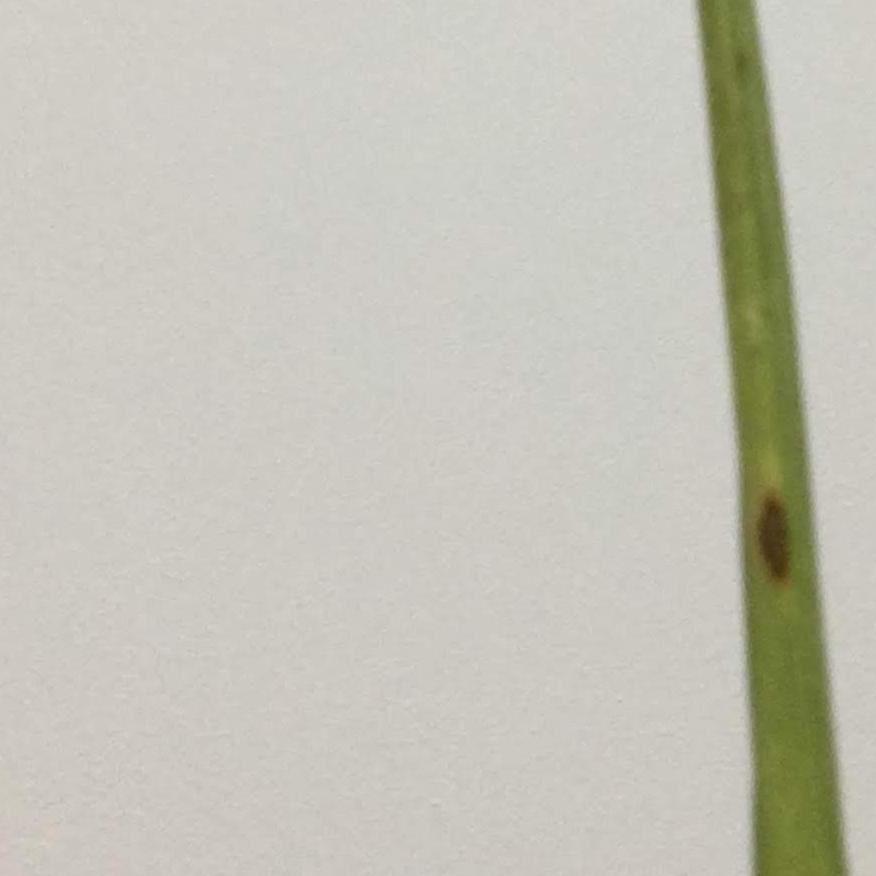1 RiceBlast: (743, 459, 815, 593)
